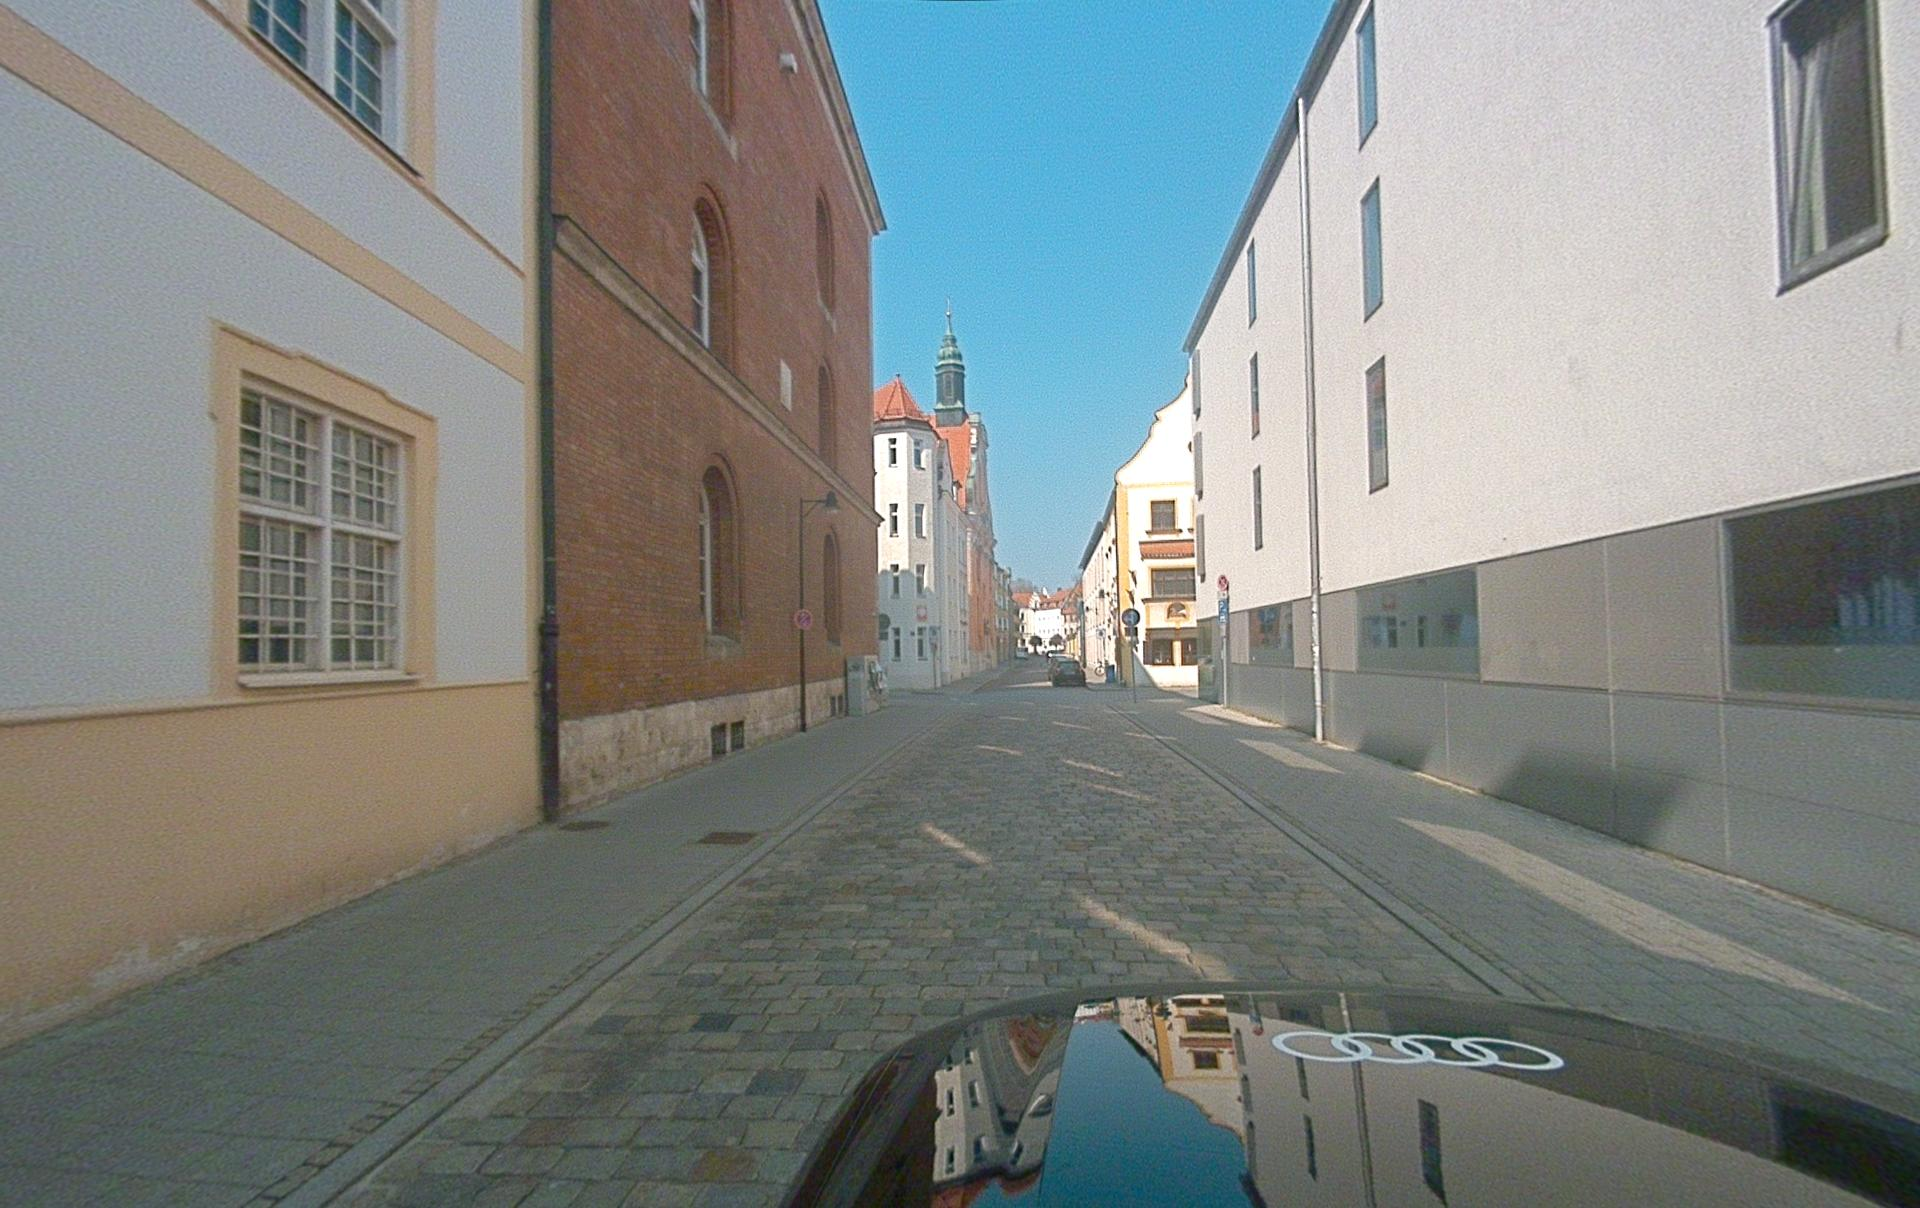car: (779, 987, 1917, 1207), (1049, 655, 1085, 688)
